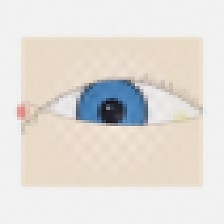pinguecula_lesion: (165, 106, 197, 132)
